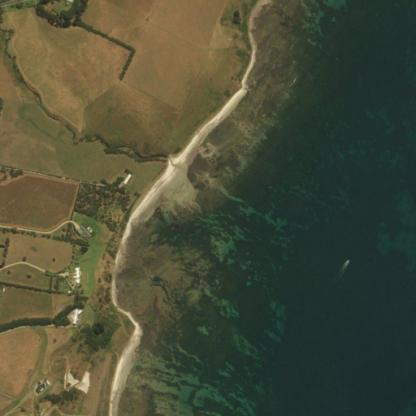ship: (340, 253, 352, 268)
